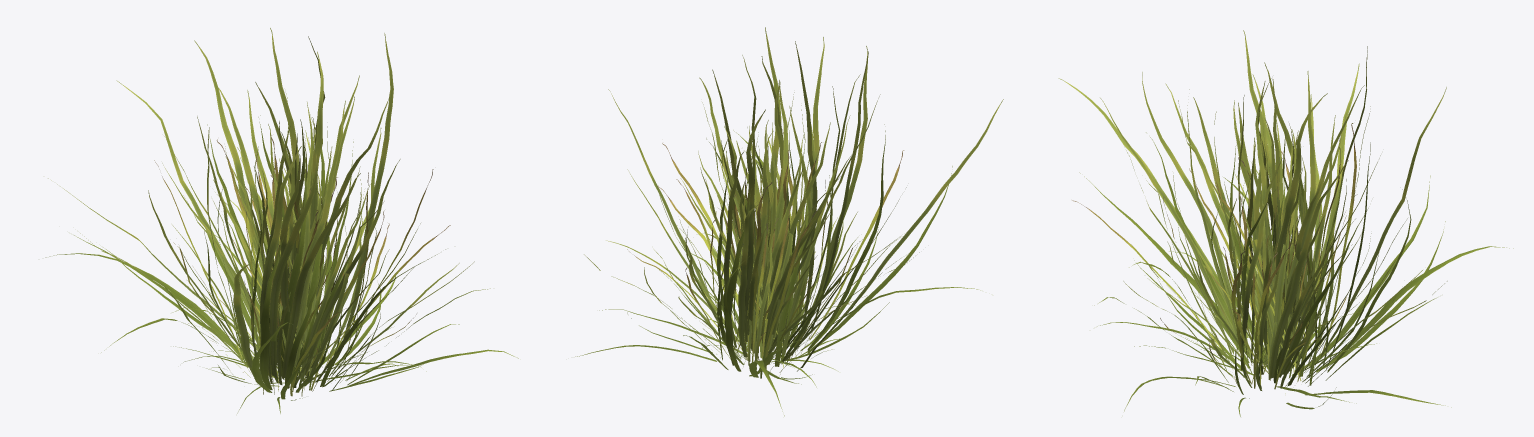
File: grass_lush.glb
3 views of the same model, side by side, from view 1: azimuth 30°, elevation 25°; view 2: azimuth 150°, elevation 25°; view 3: azimuth 270°, elevation 25° (orthographic). The views are drawn at different scales.
Visible parts, largest first — view 1: Grass1_Grass1_Mat_0, Grass1_Grass_Mat_0, Grass1_Grass2_Mat_0; view 2: Grass1_Grass1_Mat_0, Grass1_Grass_Mat_0, Grass1_Grass2_Mat_0; view 3: Grass1_Grass1_Mat_0, Grass1_Grass_Mat_0, Grass1_Grass2_Mat_0.
Boxes of the visible parts, box(x1,y1,x2,y2) form: Grass1_Grass1_Mat_0: box(48, 28, 474, 384); Grass1_Grass_Mat_0: box(45, 114, 518, 413); Grass1_Grass2_Mat_0: box(154, 135, 450, 396); Grass1_Grass1_Mat_0: box(584, 27, 1003, 365); Grass1_Grass_Mat_0: box(575, 124, 980, 416); Grass1_Grass2_Mat_0: box(627, 129, 904, 374); Grass1_Grass1_Mat_0: box(1058, 30, 1447, 388); Grass1_Grass_Mat_0: box(1079, 132, 1513, 416); Grass1_Grass2_Mat_0: box(1072, 123, 1401, 393).
Bounding box in the file's own units: 0.6787 × 0.58 × 0.7366.
Materials: 3 (3 with a texture image).
